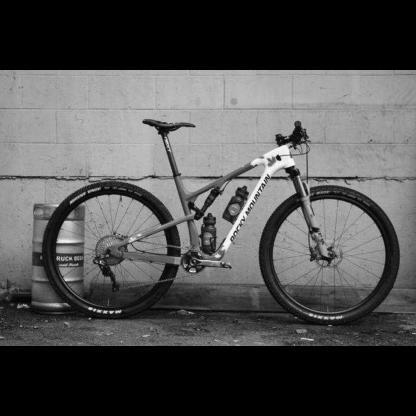Bicycle: (18, 103, 408, 340)
